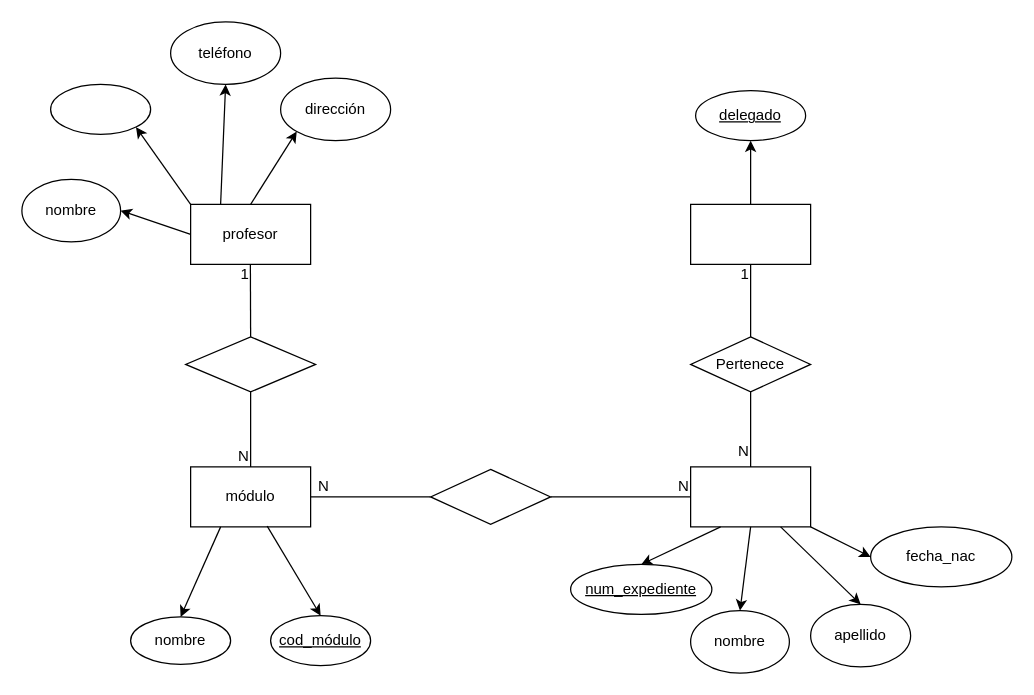
Image size: 1034x695. Some labels were removed from this diagram. The shapes that lost their labels are listed below. From the top down, each one's box as (x1, y1, x2, y2) in pixels, then its label:
(49, 83, 151, 134): dni
(689, 203, 811, 264): grupo
(184, 336, 316, 392): Impartir
(429, 468, 551, 524): Matriculado
(689, 466, 811, 527): alumno
